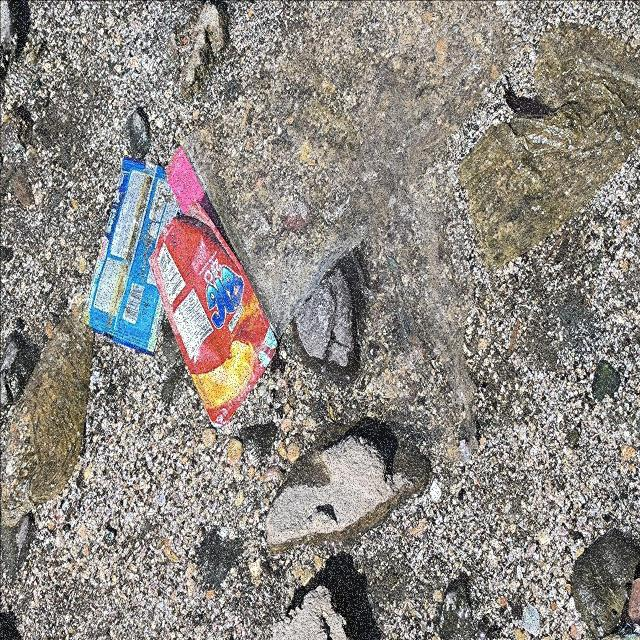plastic_waste: (148, 199, 279, 431), (80, 154, 184, 358)
